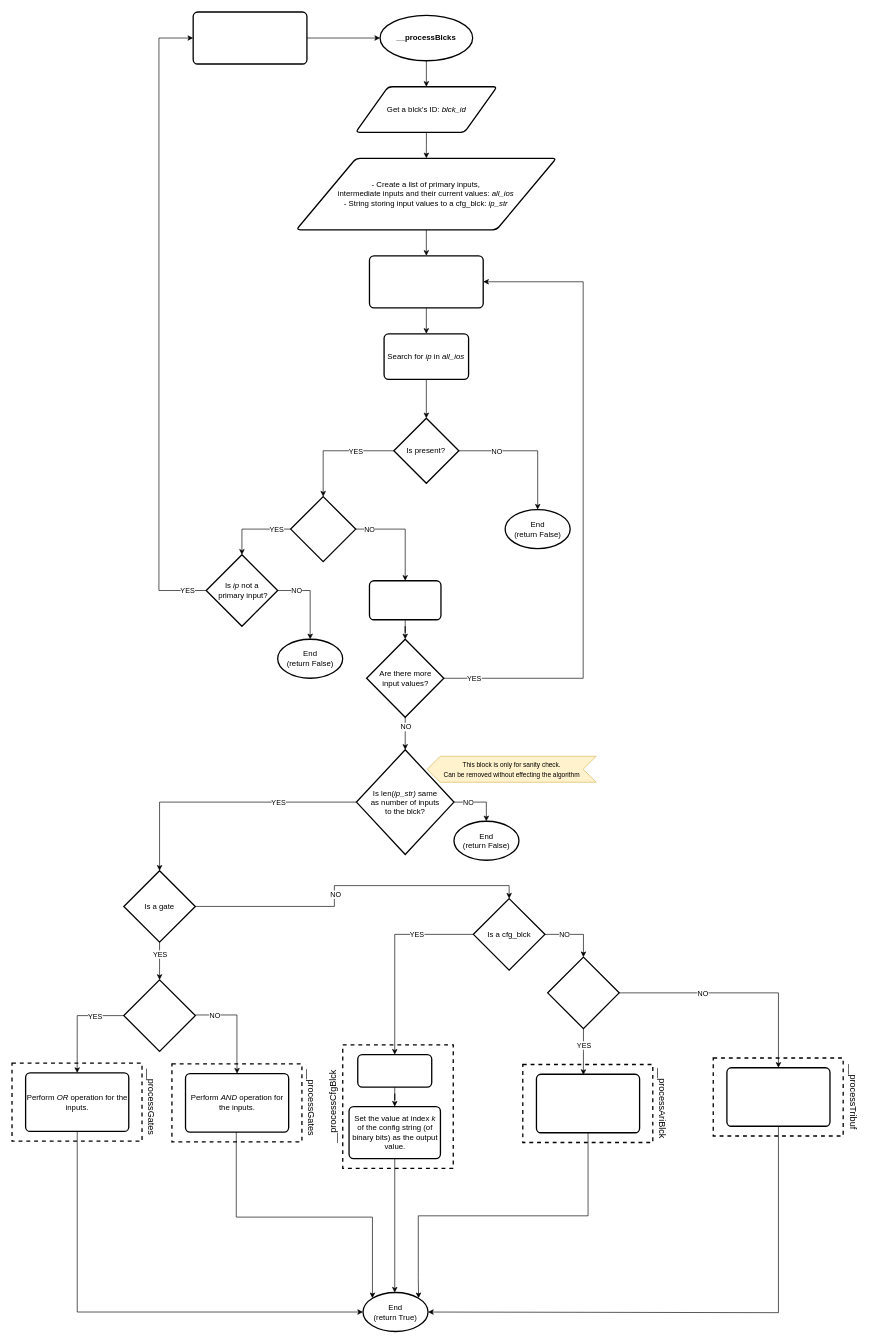
Image size: 870x1343. Some labels were removed from this diagram. The shapes that lost their labels are listed below. From the top down, each one's centre as x and y in pixels, then its label:
point 249,37: Get blck_id of the block whose output is the given ip .
point 426,281: Take a new input( ip ) from the set of inputs for the blck_id
point 323,529: Is bit value of ip None?
point 404,600: Append the input value to ip_str
point 583,992: Is an ari_blck
point 159,1015: Is an or_gate
point 394,1070: Convert ip_str into integer ( k )
point 587,1103: Apply the equations described in ./RC_AR1_TRIBUFF.pdf
point 778,1097: Apply the truth-table described in ./RC_AR1_TRIBUFF.pdf
